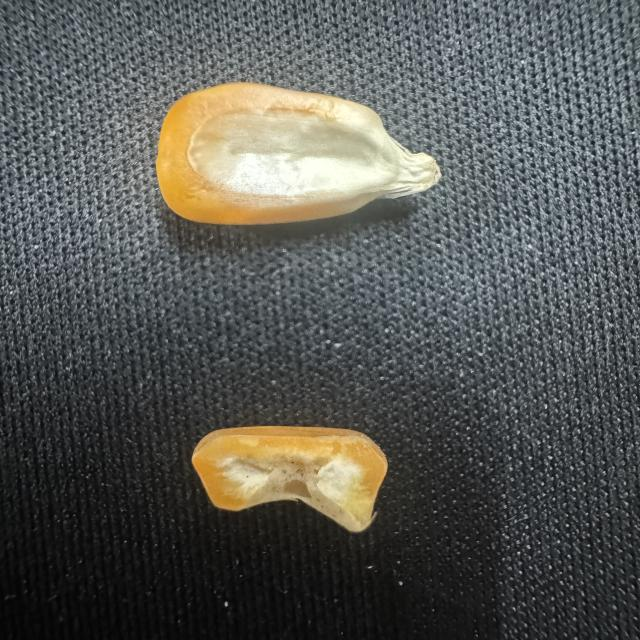Bad-Seed: (176, 419, 399, 546)
Good-Seed: (150, 76, 450, 238)
